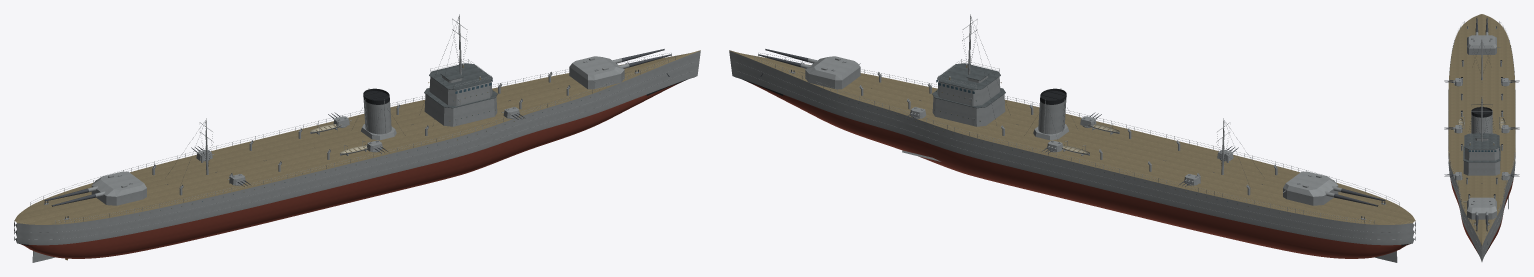
Rendered from courageous_llc-campaign_1922.glb.
The picture shows the model from 3 angles, left to right: view 1: azimuth 30°, elevation 25°; view 2: azimuth 150°, elevation 25°; view 3: azimuth 270°, elevation 25°; orthographic projection. The views are drawn at different scales.
Parts seen in each view (by area): view 1: Courageous class (large light cruiser); view 2: Courageous class (large light cruiser); view 3: Courageous class (large light cruiser).
Part boxes in pixels (x1=…): Courageous class (large light cruiser): x1=14, y1=14, x2=700, y2=262; Courageous class (large light cruiser): x1=729, y1=14, x2=1415, y2=262; Courageous class (large light cruiser): x1=1444, y1=14, x2=1519, y2=261.
Bounding box in the file's own units: 175 × 35.8 × 23.68.
9 materials, 8 textured.
